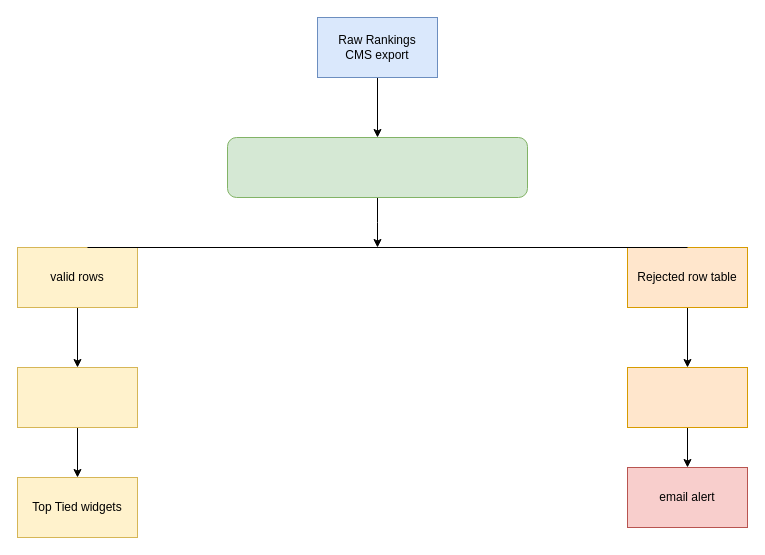
Some shapes in this 765 by 555 pixel diagram are drawn without their labels. Here are the shapes that lost their labels. From the top down, the centre of each, then its label:
At point 377,167: "staging validate firm ref splits vs rejected".
At point 77,397: "fct firm rankings".
At point 687,397: "volume anomaly check".
